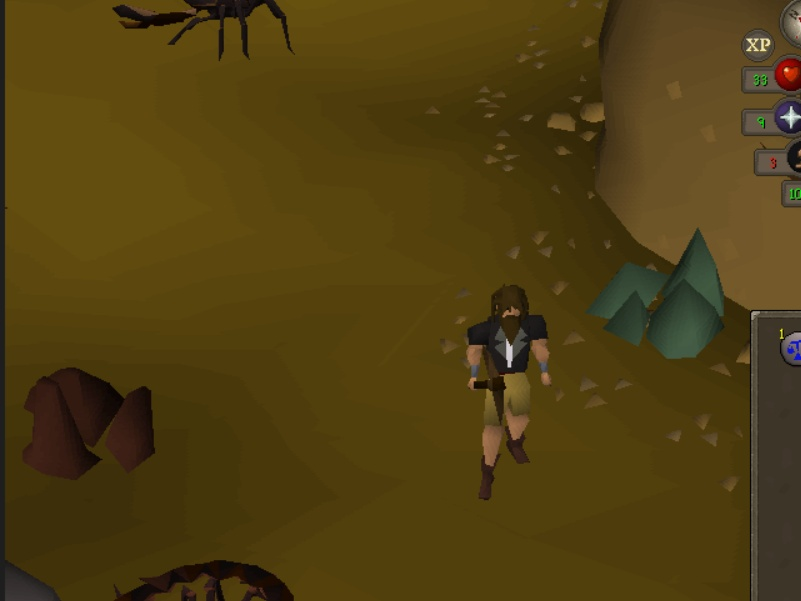adamant: (577, 216, 735, 364)
iron: (10, 349, 172, 478)
